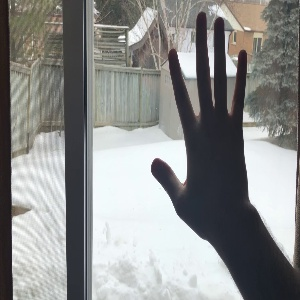hand: (151, 12, 250, 247)
